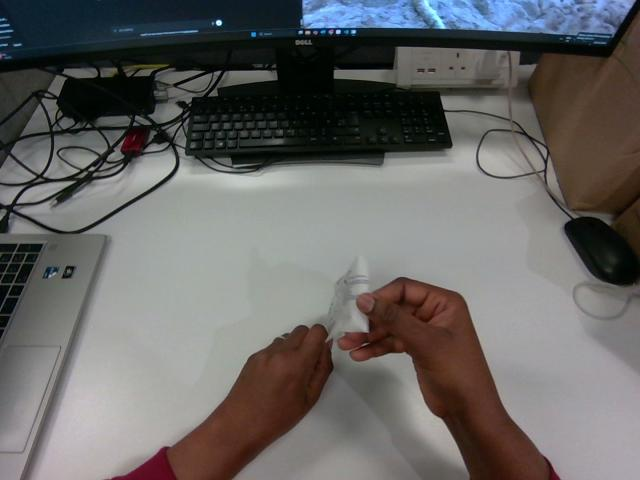syringe: (324, 256, 369, 339)
